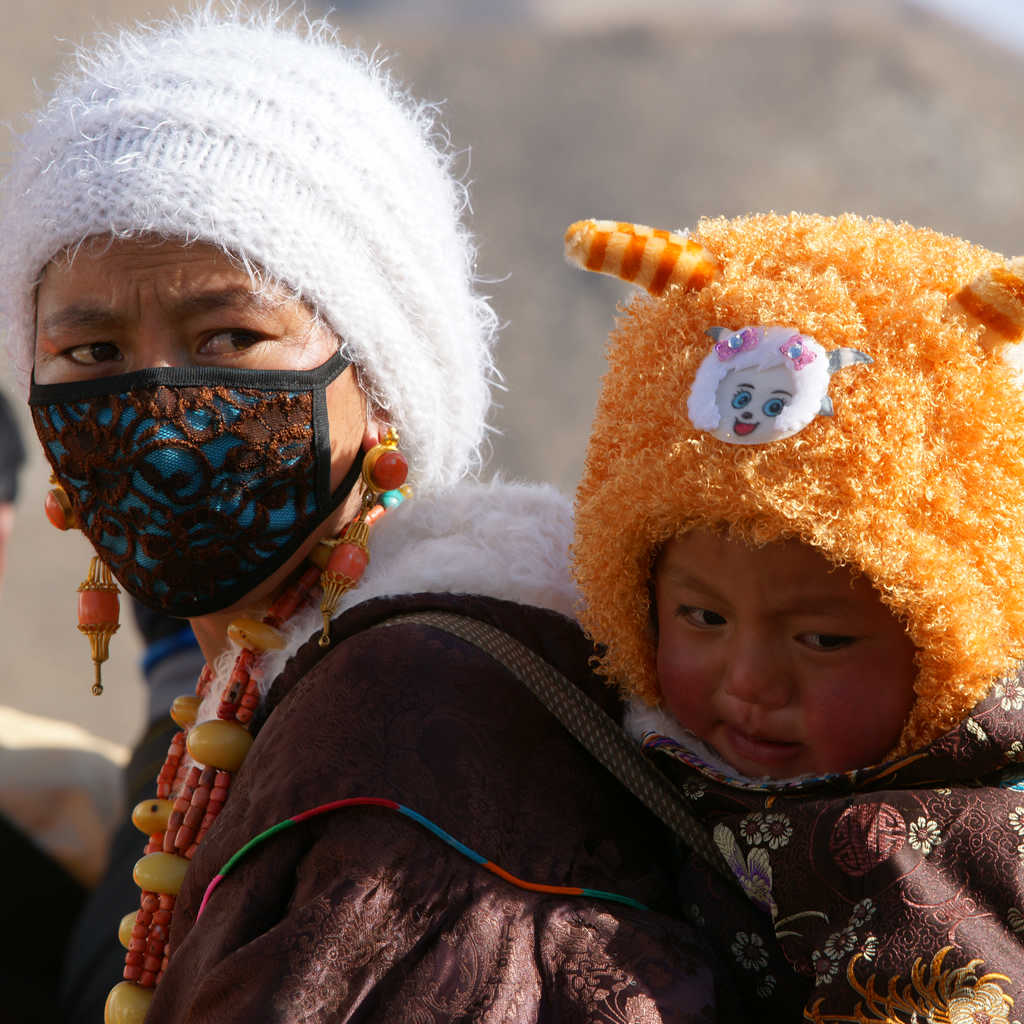face: (650, 490, 912, 794)
face_mask: (25, 207, 346, 615)
